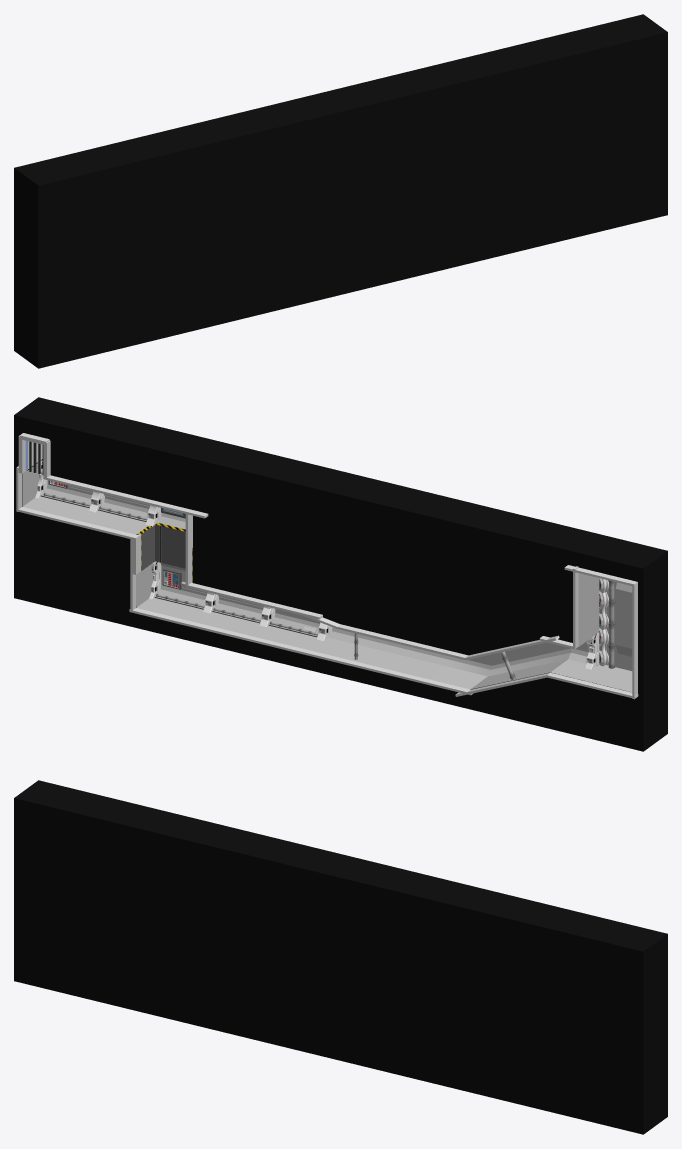
Rendered from Map_Level_1_Rescaled.FBX.
3 renders of one model, top to bottom at view 1: azimuth 30°, elevation 25°; view 2: azimuth 150°, elevation 25°; view 3: azimuth 330°, elevation 25°, orthographic.
Visible parts, largest first — view 1: Box003; view 2: Box003, Object009, Diagonal Corridor, Plane100, object 24, Plane018, Box004, Plane110, Plane111, Plane102, Plane066, Box006 (+9 smaller); view 3: Box003.
Part boxes in pixels (left/top/right/bottom): Box003: left=14, top=14, right=667, bottom=368; Box003: left=14, top=397, right=667, bottom=751; Object009: left=578, top=573, right=632, bottom=692; Diagonal Corridor: left=429, top=642, right=571, bottom=689; Plane100: left=136, top=561, right=207, bottom=621; object 24: left=341, top=635, right=450, bottom=679; Plane018: left=136, top=508, right=192, bottom=582; Box004: left=129, top=608, right=473, bottom=695; Plane110: left=22, top=459, right=92, bottom=520; Plane111: left=79, top=494, right=149, bottom=534; Plane102: left=193, top=595, right=263, bottom=635; Plane066: left=250, top=609, right=320, bottom=649; Box006: left=43, top=475, right=208, bottom=518; Box003: left=14, top=780, right=667, bottom=1134.
Size of the model in its own units: 581 by 161 by 44.8.
